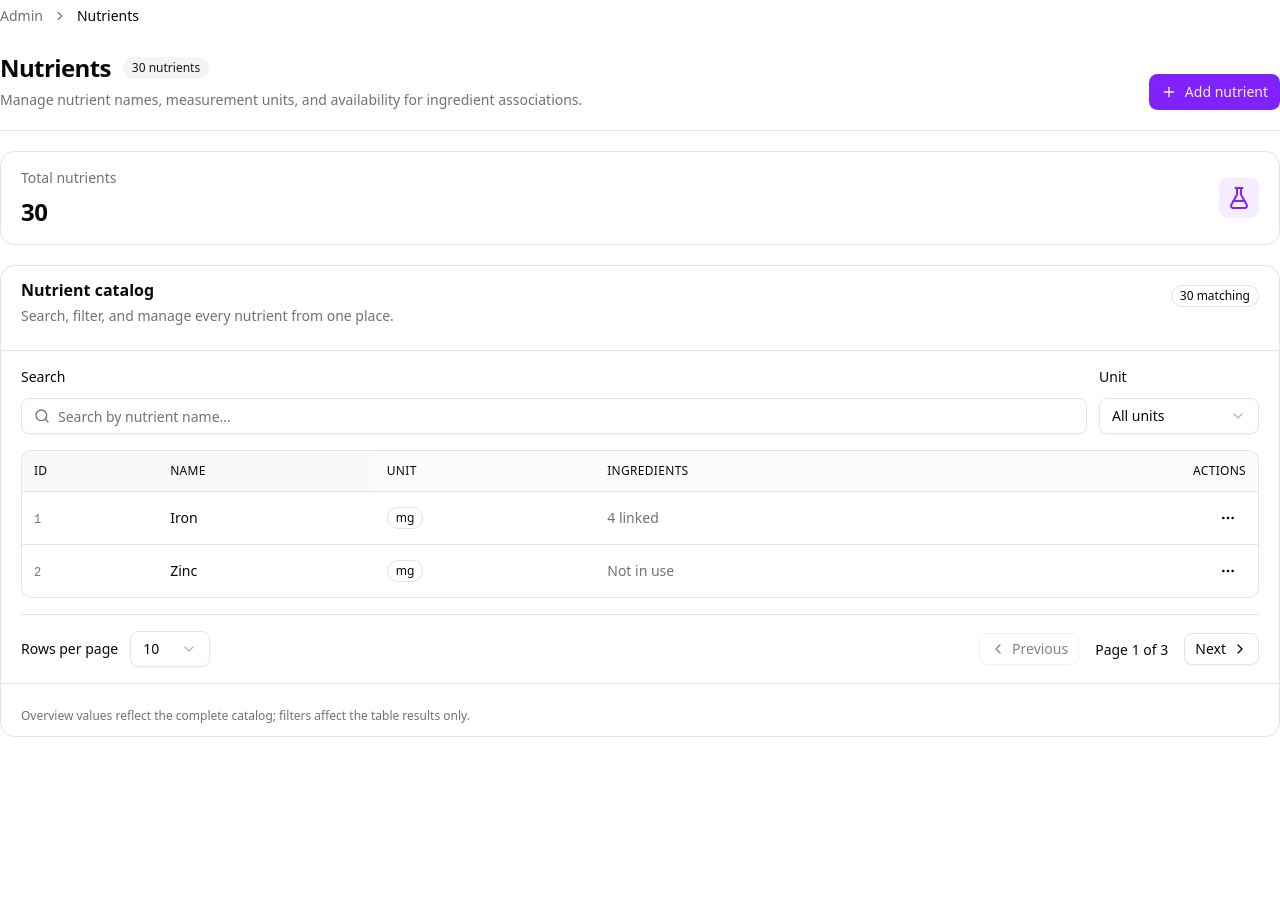
Test: NutrientsPage › keeps a row visible and shows a conflict message after delete returns 409
Click the button named "Actions for Zinc" at (1228, 571), box [1210,553,1246,589]
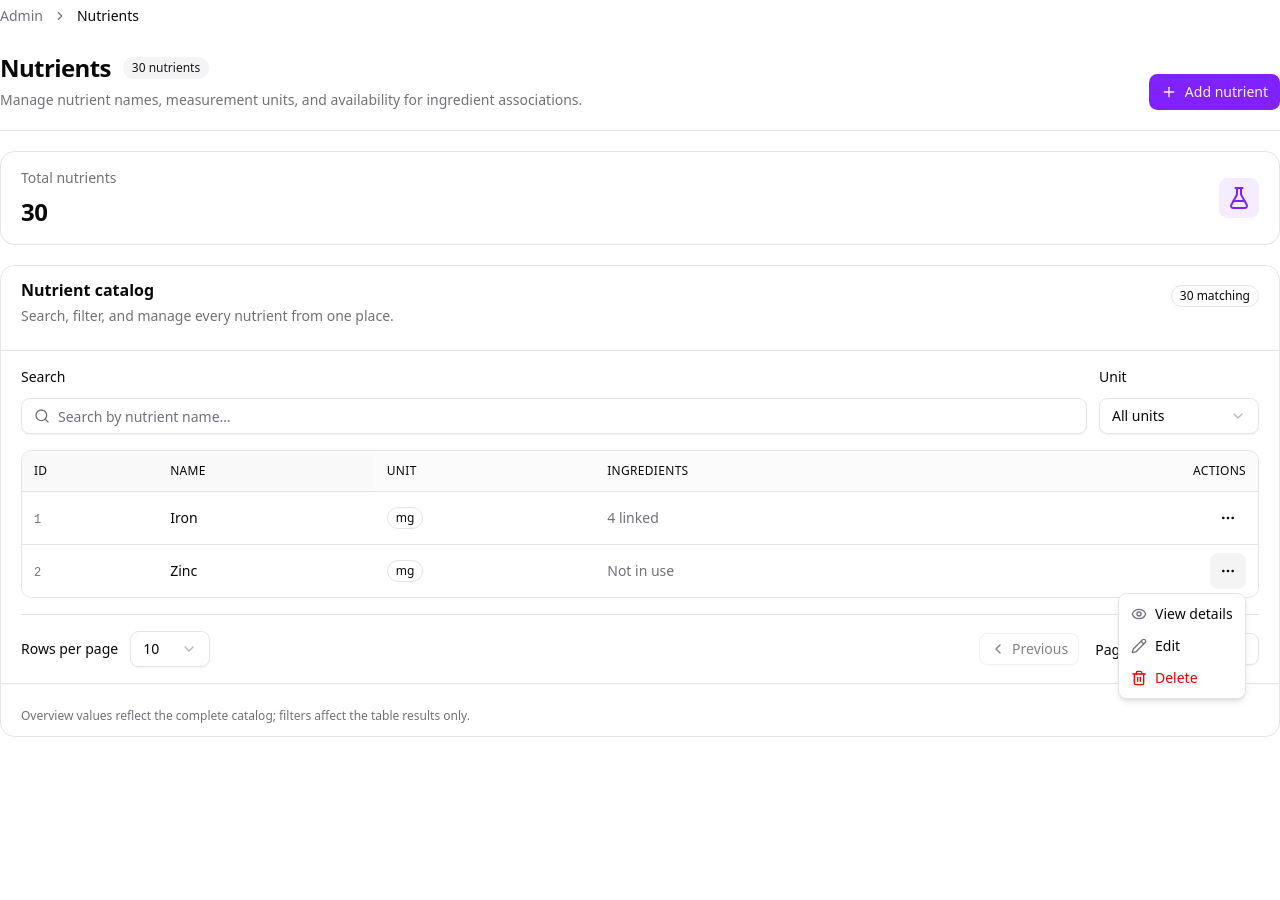
Click the menu item "Delete" at (1164, 678), box [1131,668,1198,687]
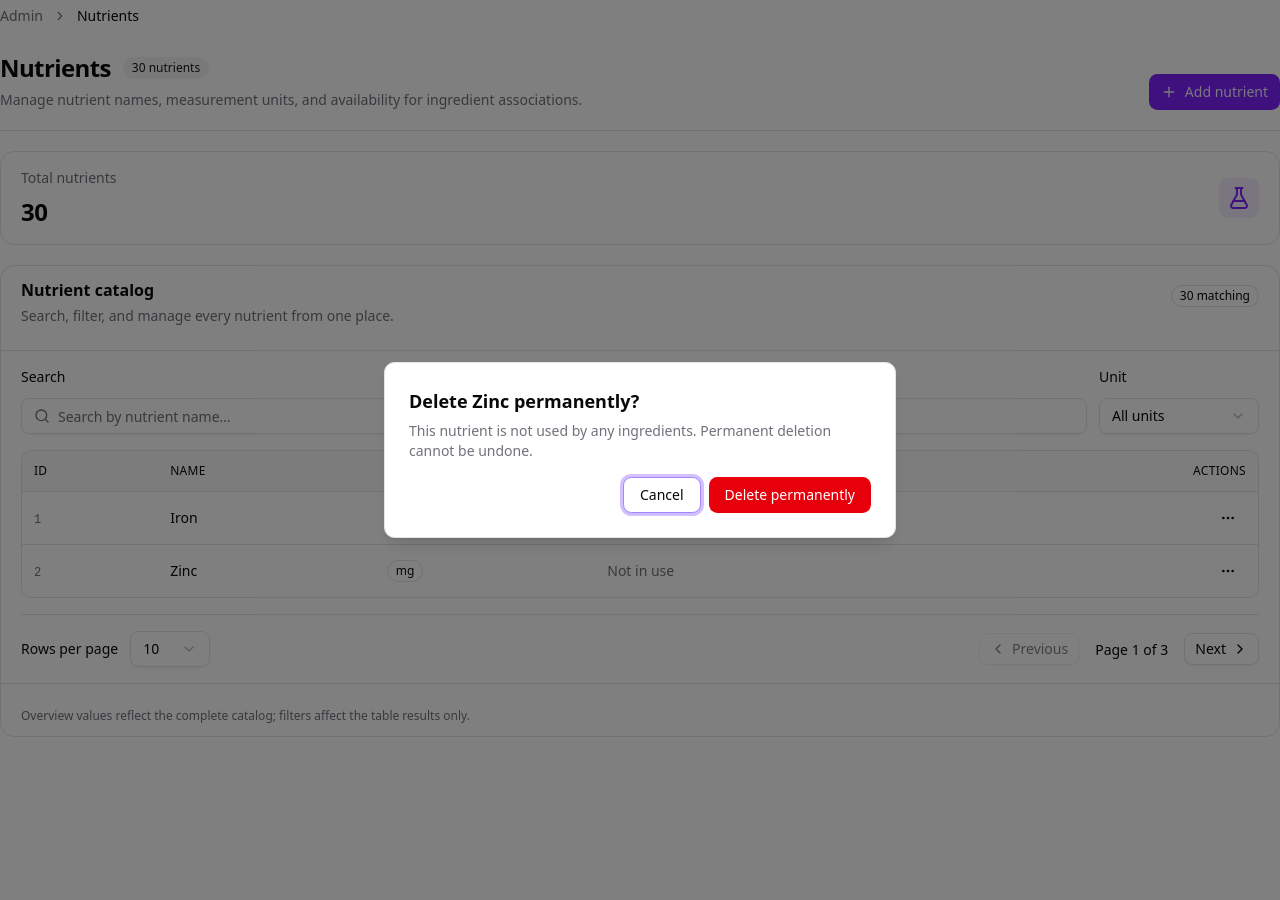
Click the button "Delete permanently" at (790, 495), box [708,477,871,513]
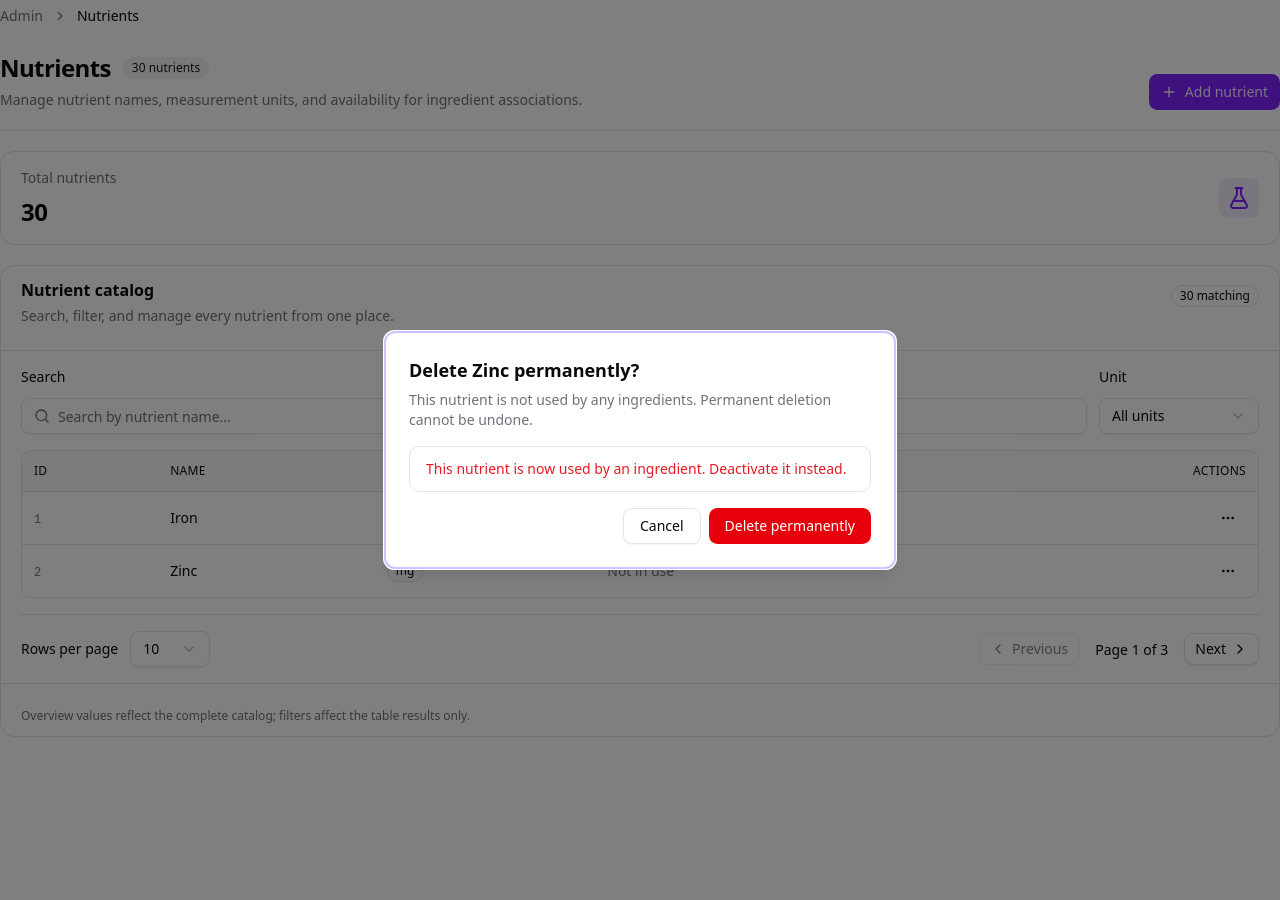
Check: the cell "Zinc" is shown, box [158,544,375,597]
Check: the dialog is shown, box [384,331,896,569]
Check: the text "This nutrient is now used by an ingredient. Deactivate it instead." is shown, box [426,459,854,479]
